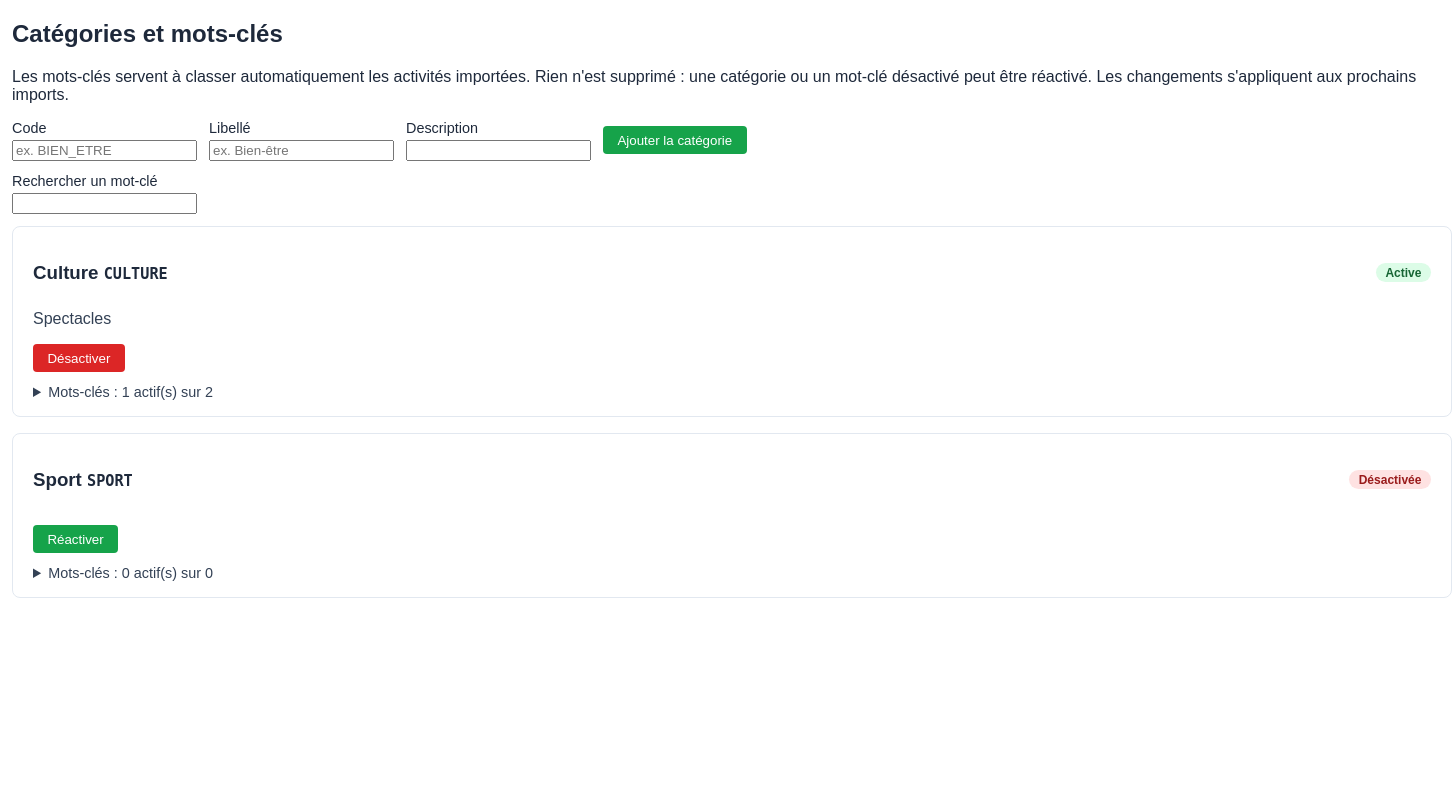
AdminCategoriesSection › filtre les mots-clés par recherche
Check: the heading "Mots-clés : 1 actif(s) sur 2" is shown, box [48, 384, 213, 400]
Type "CONC" into the search field labelled "Rechercher un mot-clé". click: (104, 203)
box: [12, 193, 197, 214]
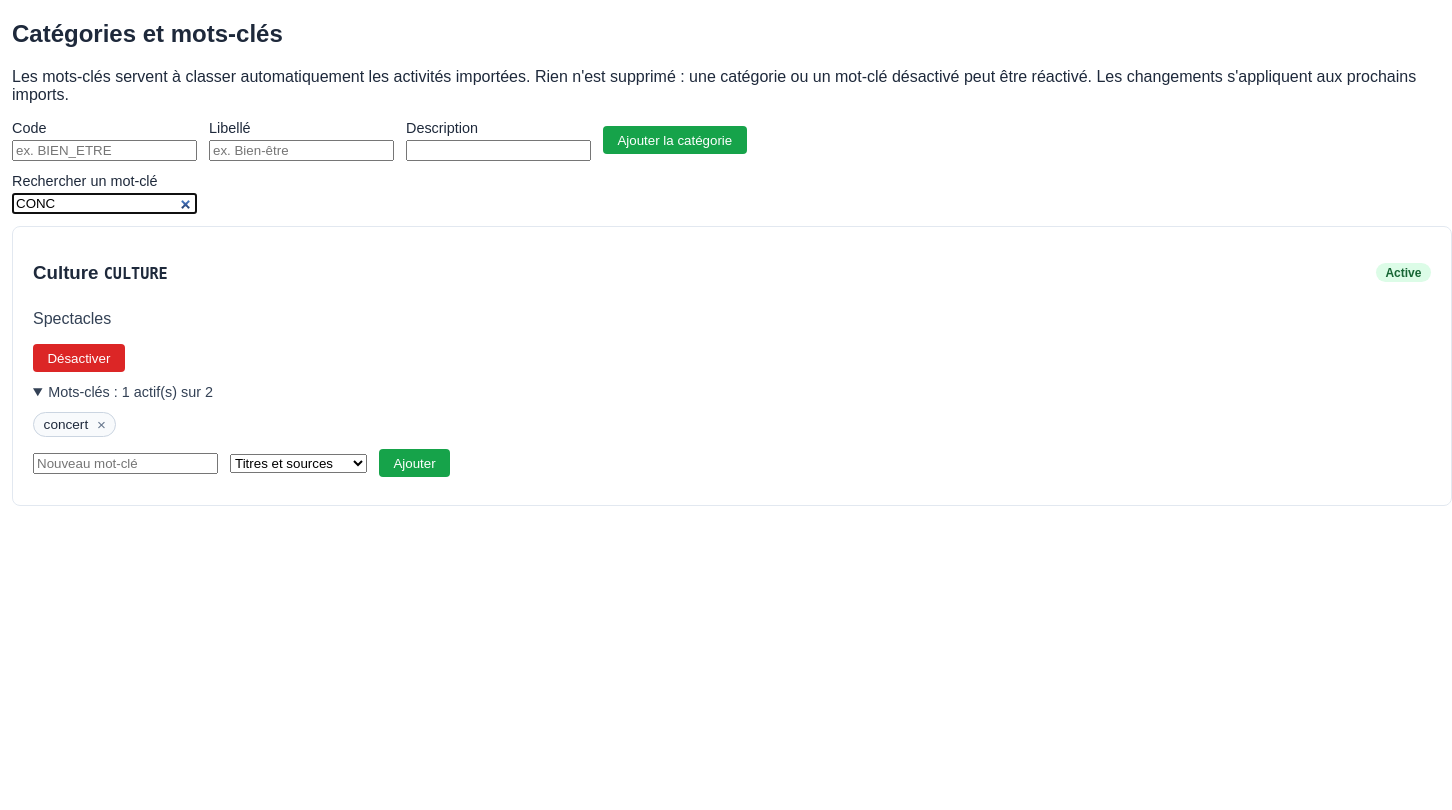
Check: the text "concert" is shown, box [44, 417, 88, 432]
Check: the text "SPORT" is gone
